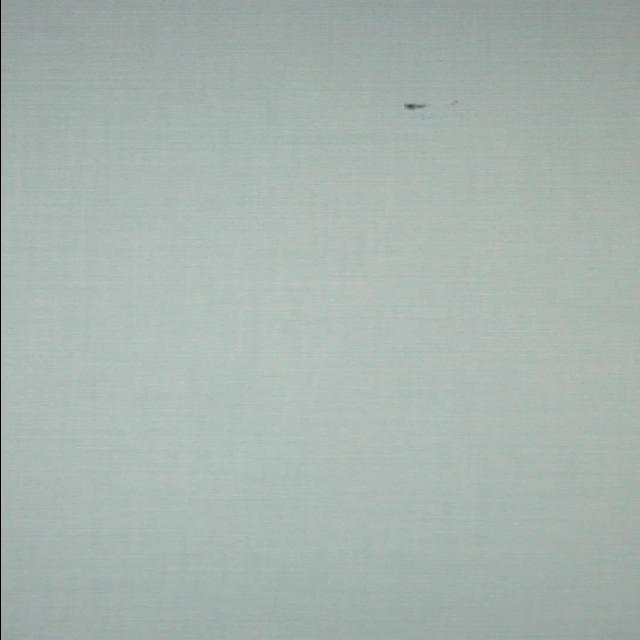dirty: (402, 104, 424, 110), (451, 99, 457, 106)
